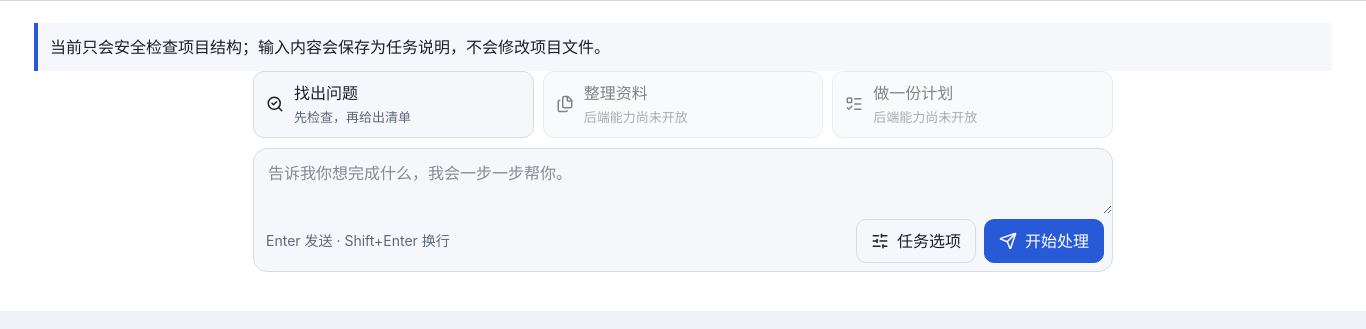
it: TaskComposer › keeps the draft and does not claim receipt when submission fails
Type "检查失败流程" into the text box named "告诉 Agent 你想完成什么" at (683, 181), box [254, 148, 1112, 214]
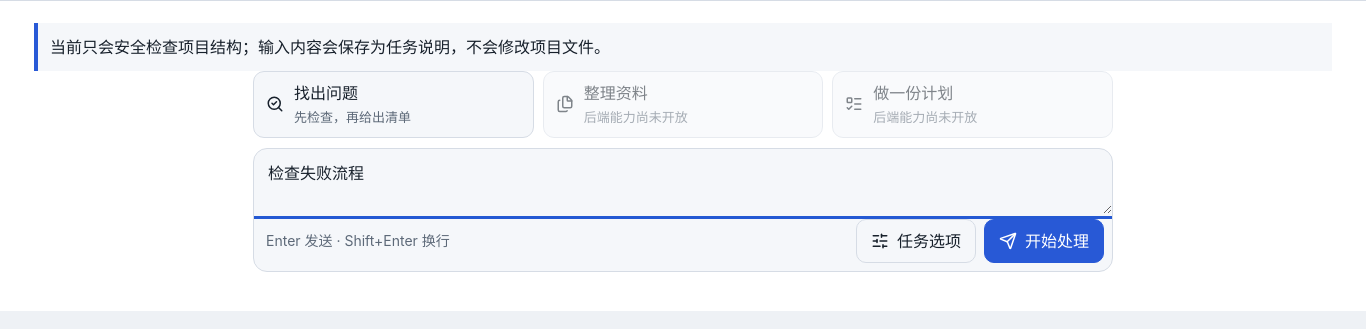
Click the button "开始处理" at (1044, 240), box [984, 218, 1104, 262]
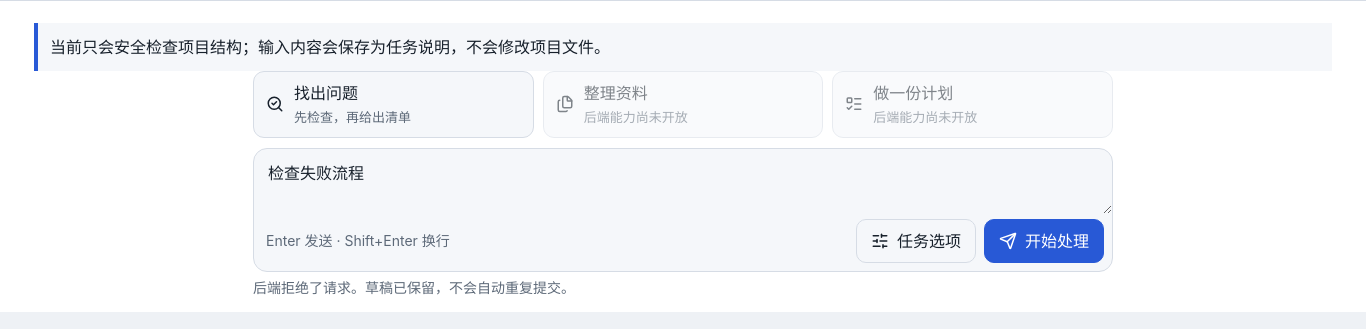
Expected: the message does not show "已收到", [253, 278, 575, 296]
Result: the message shows "草稿已保留" at [253, 278, 575, 296]
Result: the message shows "不会自动重复提交" at [253, 278, 575, 296]
